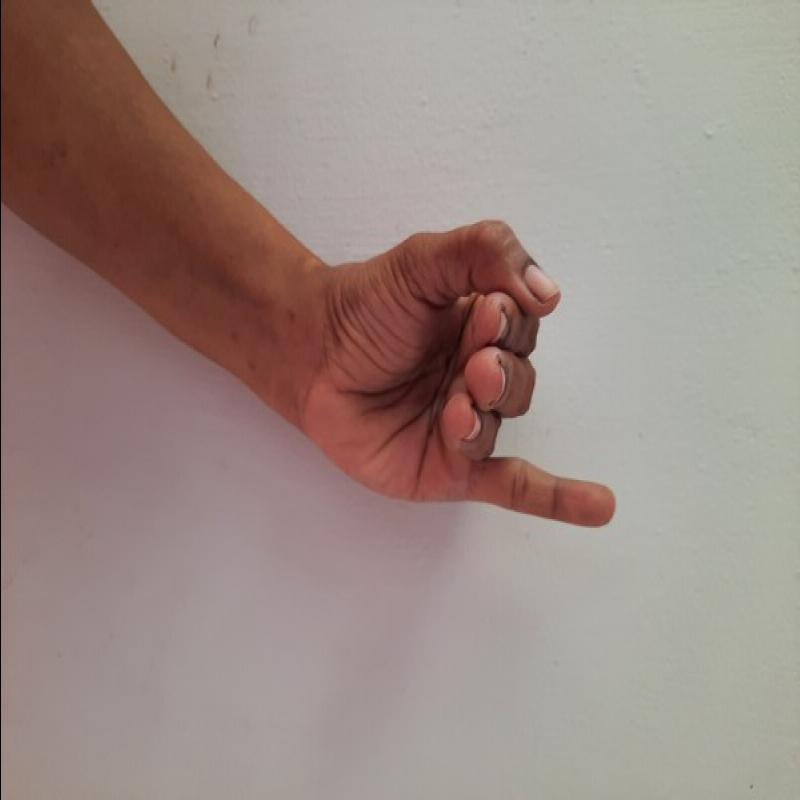Kartharee Mukham: (288, 210, 628, 539)
